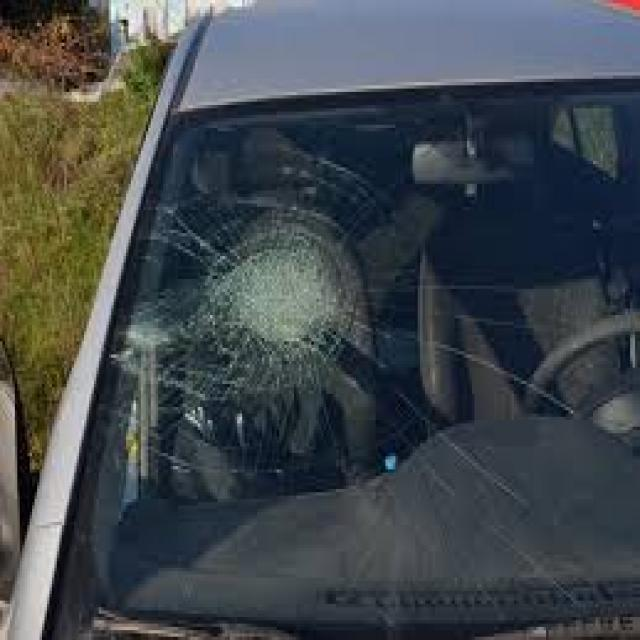damaged-windscreen: (57, 105, 640, 624)
